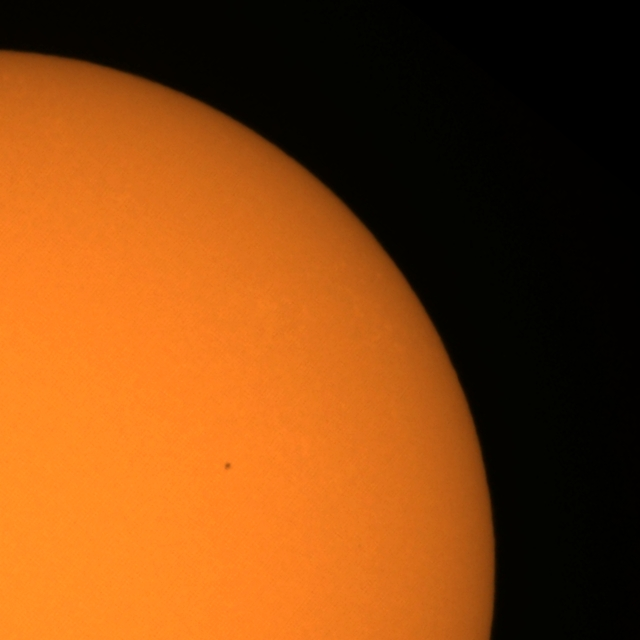sunspot: (223, 461, 233, 472)
